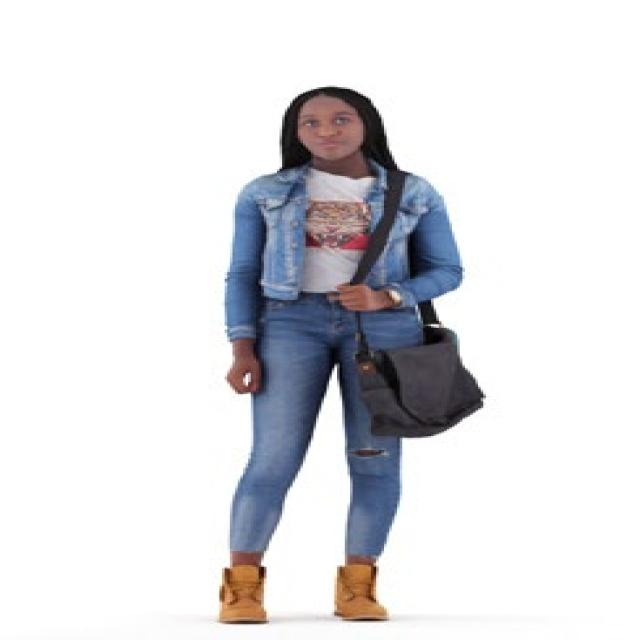standing: (202, 84, 477, 625)
